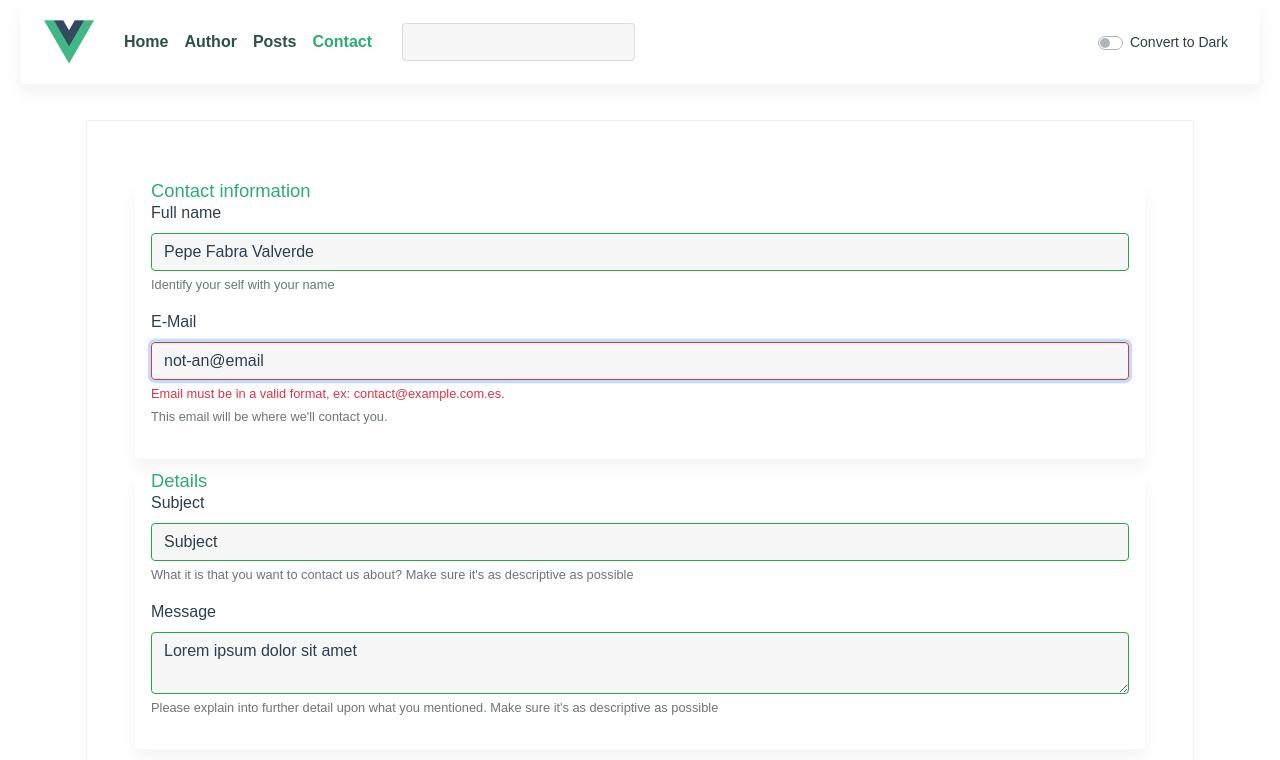
Test: 6. Contact page › should show error message when inputing an unvalid full name
The width and height of the screenshot is (1280, 760).
Replace the text in the field with id "fullName" with "1'unvalid": (640, 252) [151,233,1129,271]
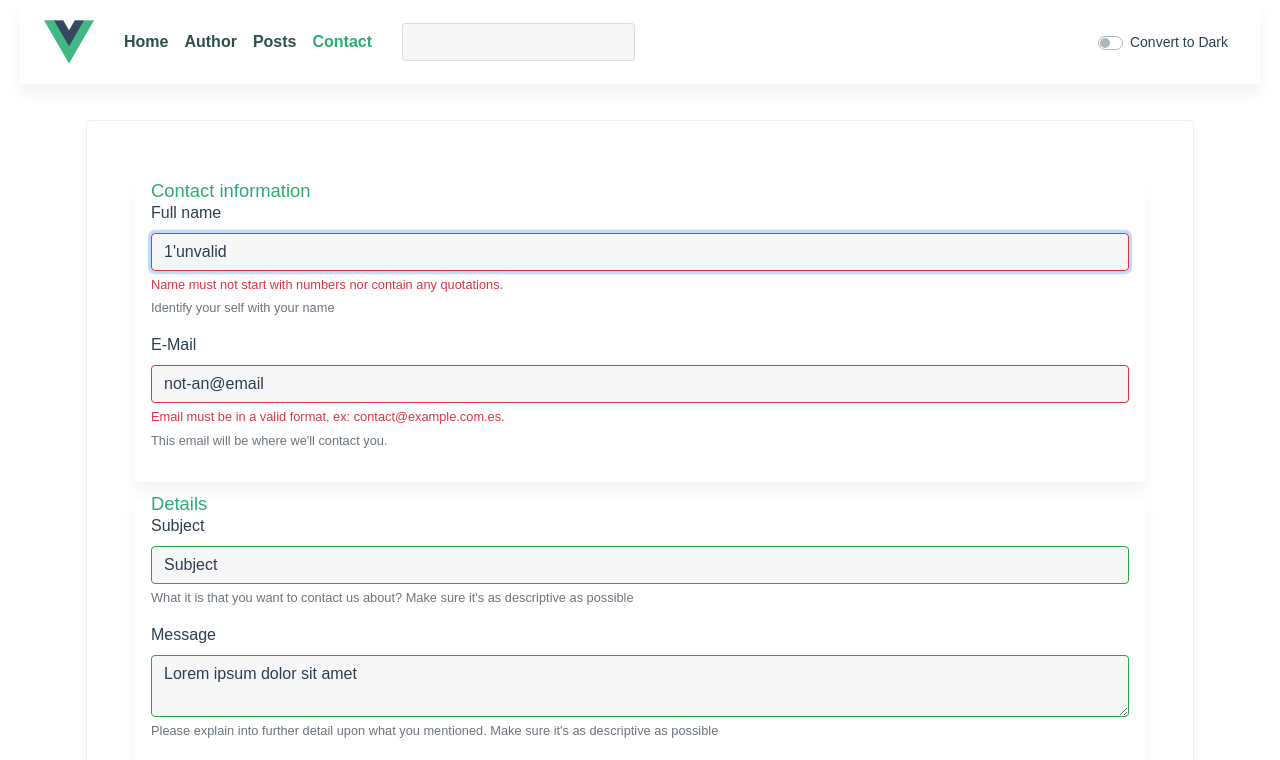
Expected: the text "Name must not start with numbers nor contain any quotations." is shown, [151,277,503,292]
